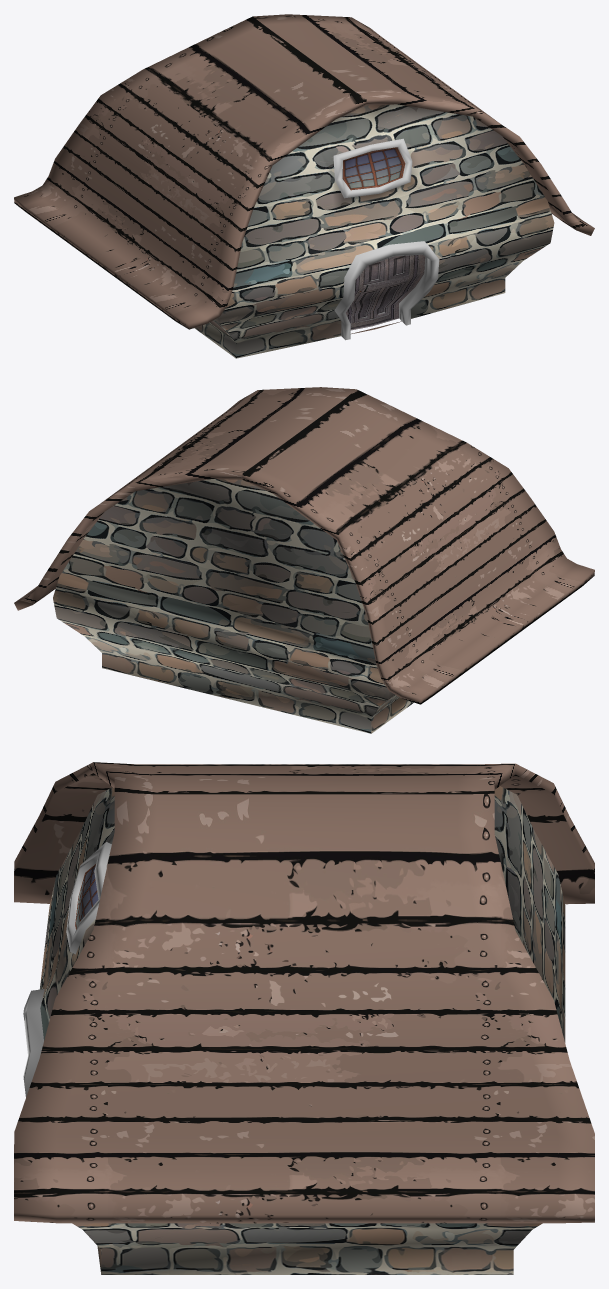
File: house6.fbx
The picture shows the model from 3 angles, top to bottom: view 1: azimuth 30°, elevation 25°; view 2: azimuth 150°, elevation 25°; view 3: azimuth 270°, elevation 25°; orthographic projection. The views are drawn at different scales.
Parts seen in each view (by area): view 1: U3DMesh; view 2: U3DMesh; view 3: U3DMesh.
Boxes of the visible parts, x1,y1,x2,y2 form: U3DMesh: (14,14,594,358); U3DMesh: (14,387,594,733); U3DMesh: (14,762,594,1274).
Bounding box in the file's own units: 25.75 × 13.59 × 19.09.
